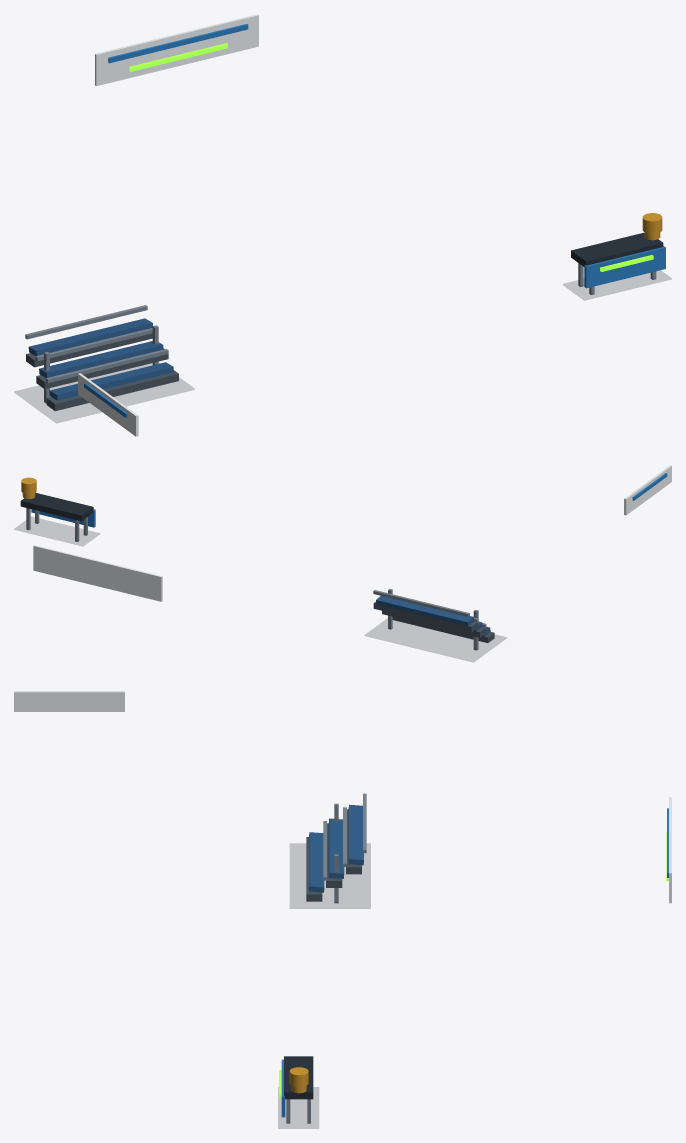
The model's file is indoor-props.glb.
3 renders of one model, top to bottom at view 1: azimuth 30°, elevation 25°; view 2: azimuth 150°, elevation 25°; view 3: azimuth 270°, elevation 25°, orthographic. The views are drawn at different scales.
Parts seen in each view (by area): view 1: Far wall center banner panel, Bleacher floor shadow, Scorer table face, Scorer table top, Bleacher blue seat 3, Bleacher blue seat 2, Bleacher blue seat 1, Left wall sponsor placard, Bleacher step 1, Scorer table shadow, Far wall banner blue stripe, Bleacher step 2 (+4 smaller); view 2: Far wall center banner panel, Bleacher floor shadow, Scorer table top, Scorer table shadow, Bleacher blue seat 3, Left wall sponsor placard, Bleacher step 3, Bleacher back rail 3, Bleacher step 2, Bleacher step 1; view 3: Bleacher floor shadow, Left wall sponsor placard, Scorer table shadow, Scorer table top, Bleacher blue seat 3, Bleacher blue seat 1, Bleacher blue seat 2.
Part boxes in pixels (box(x1,y1,x2,y2)): Far wall center banner panel: box(95, 14, 258, 86); Bleacher floor shadow: box(14, 363, 194, 422); Scorer table face: box(584, 246, 665, 288); Scorer table top: box(571, 232, 663, 266); Bleacher blue seat 3: box(28, 318, 152, 356); Bleacher blue seat 2: box(39, 341, 163, 378); Bleacher blue seat 1: box(49, 362, 173, 400); Left wall sponsor placard: box(78, 373, 138, 436); Bleacher step 1: box(46, 370, 178, 411); Scorer table shadow: box(563, 270, 671, 300); Far wall banner blue stripe: box(108, 24, 248, 63); Bleacher step 2: box(36, 348, 168, 389); Far wall center banner panel: box(33, 545, 162, 601); Bleacher floor shadow: box(364, 618, 506, 662); Scorer table top: box(20, 492, 93, 521); Scorer table shadow: box(14, 517, 99, 545); Bleacher blue seat 3: box(376, 596, 474, 626); Left wall sponsor placard: box(624, 465, 671, 515); Bleacher step 3: box(373, 602, 478, 632); Bleacher back rail 3: box(373, 590, 469, 616); Bleacher step 2: box(382, 611, 486, 637); Bleacher step 1: box(392, 617, 494, 642); Bleacher floor shadow: box(290, 843, 370, 908); Left wall sponsor placard: box(14, 691, 124, 711); Scorer table shadow: box(278, 1087, 318, 1128); Scorer table top: box(284, 1056, 313, 1099); Bleacher blue seat 3: box(348, 804, 363, 865); Bleacher blue seat 1: box(309, 832, 324, 892); Bleacher blue seat 2: box(328, 818, 344, 878).
Size of the model in its own units: 15.81 by 3.7 by 13.92.
